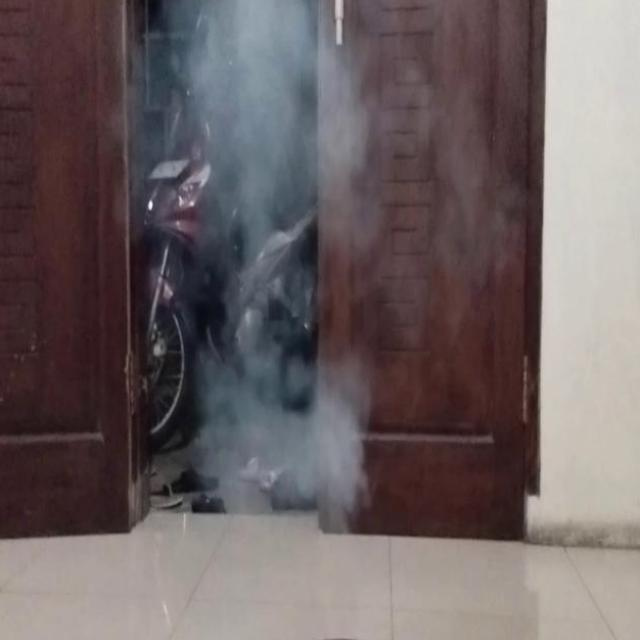fire: (181, 0, 369, 529)
